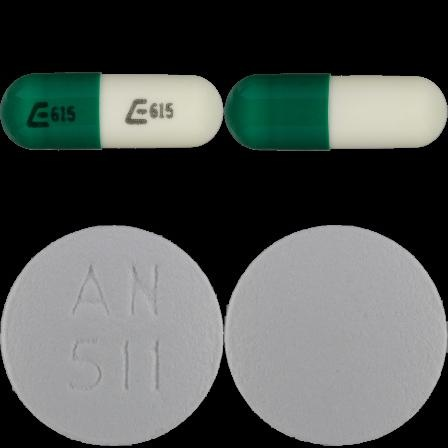52125-975: (0, 0, 224, 224)
